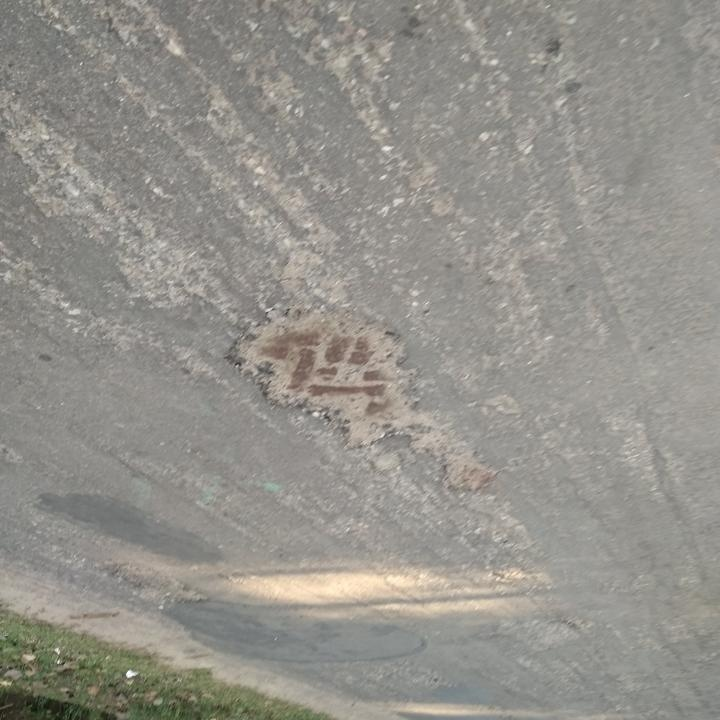pothole: (213, 298, 426, 452), (101, 561, 210, 609), (440, 445, 496, 496)
